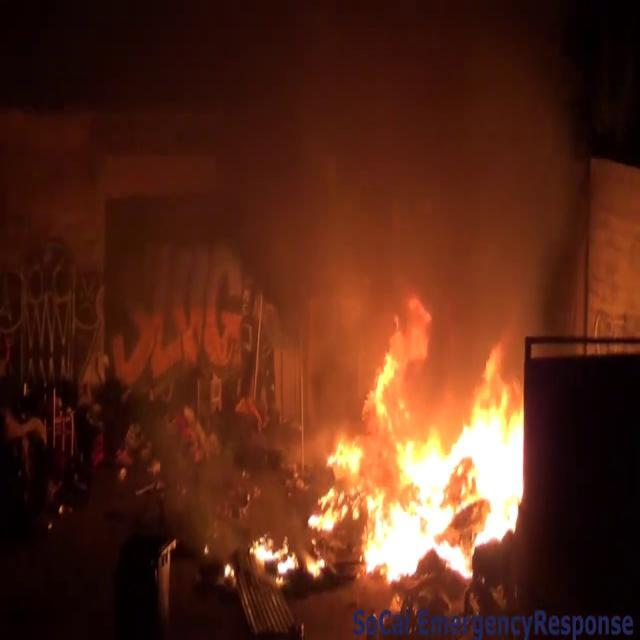Fire: (259, 304, 530, 589)
Smoke: (213, 0, 581, 345)
